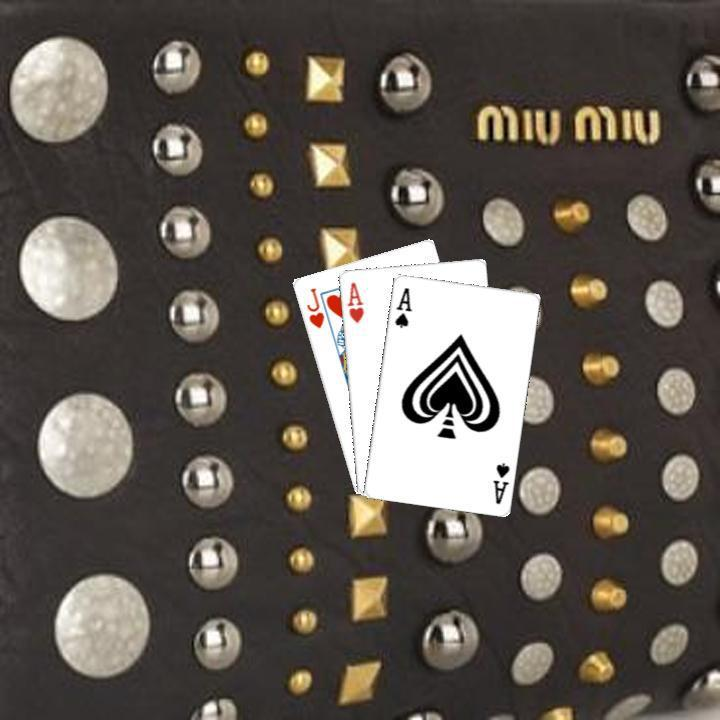A: (390, 283, 413, 329), (489, 458, 511, 506), (343, 278, 365, 325)
J: (302, 283, 326, 330)
